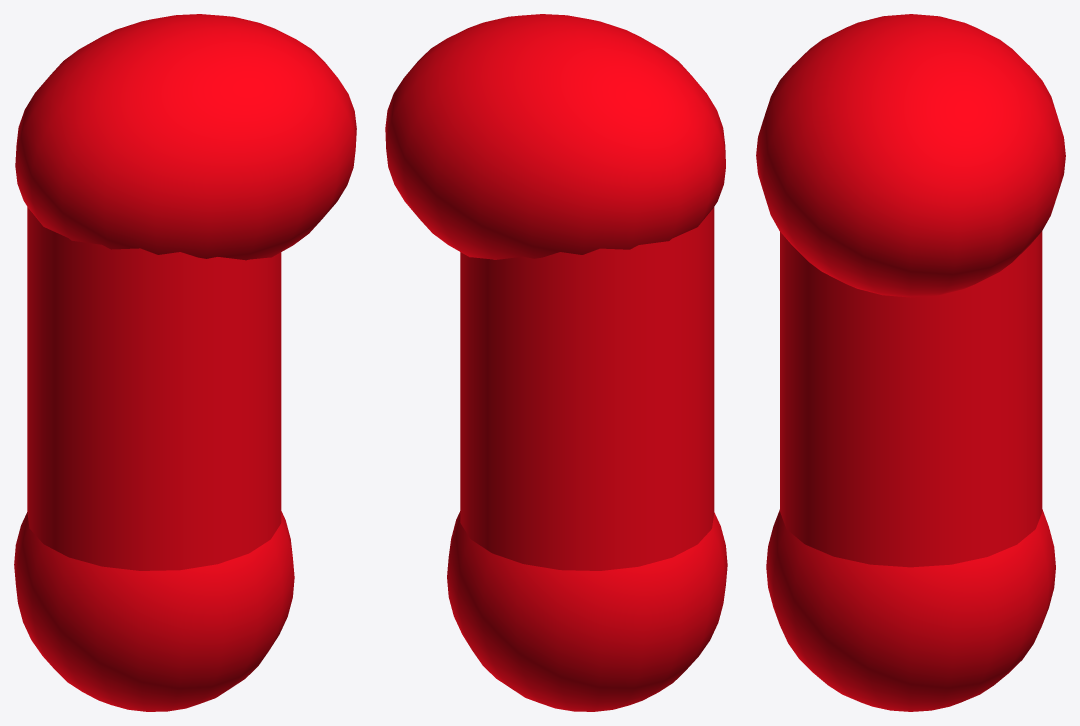
The model's file is urighthand.obj.
3 views of the same model, side by side, from view 1: azimuth 30°, elevation 25°; view 2: azimuth 150°, elevation 25°; view 3: azimuth 270°, elevation 25° (orthographic). The views are drawn at different scales.
Visible parts, largest first — view 1: pSphere4; view 2: pSphere4; view 3: pSphere4.
Boxes of the visible parts, <box> form: pSphere4: <box>14,14,356,711</box>; pSphere4: <box>385,14,727,711</box>; pSphere4: <box>756,14,1065,711</box>.
Size of the model in its own units: 2.8 by 5.7 by 2.36.
